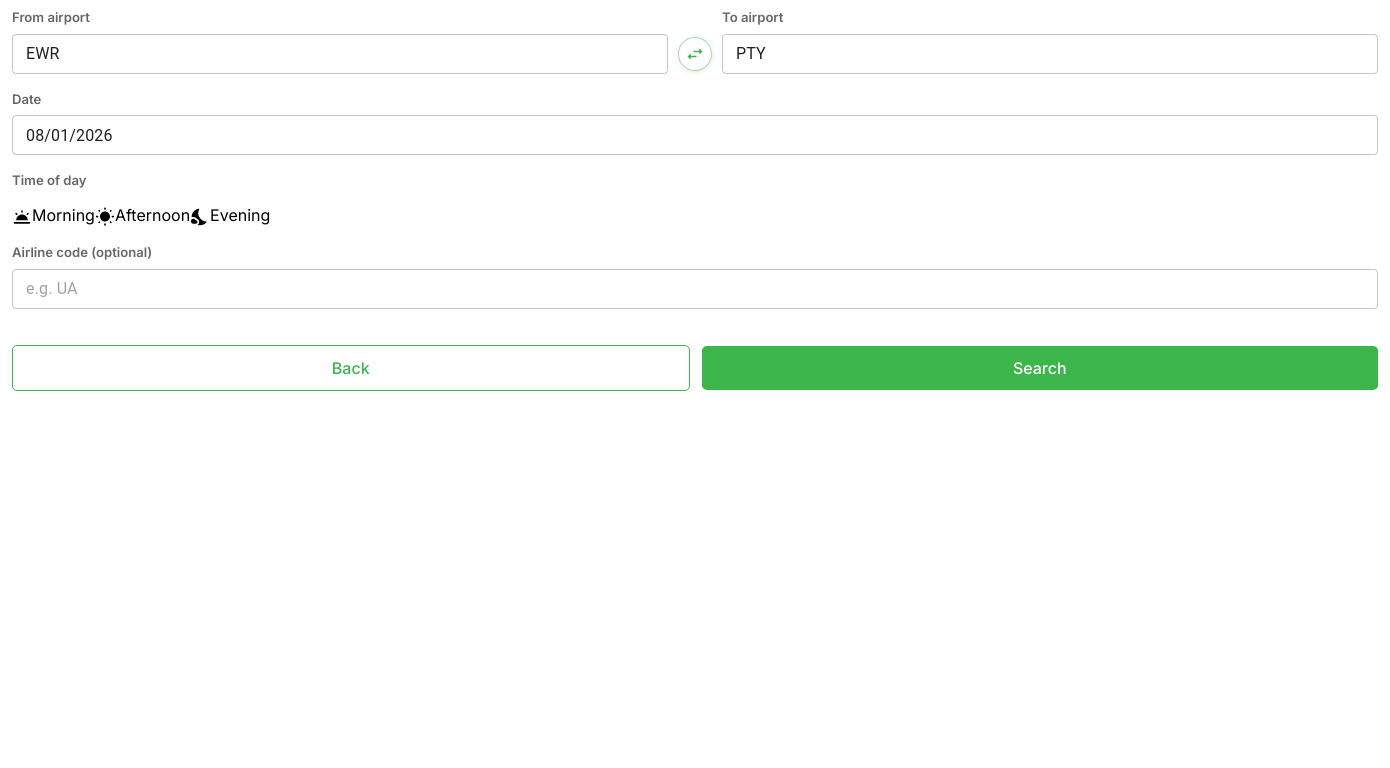
FlightDeparturesSearch › filters the visible rows by the client-side text filter
Click the button "Search" at (1040, 368), box left=702, top=346, right=1378, bottom=390
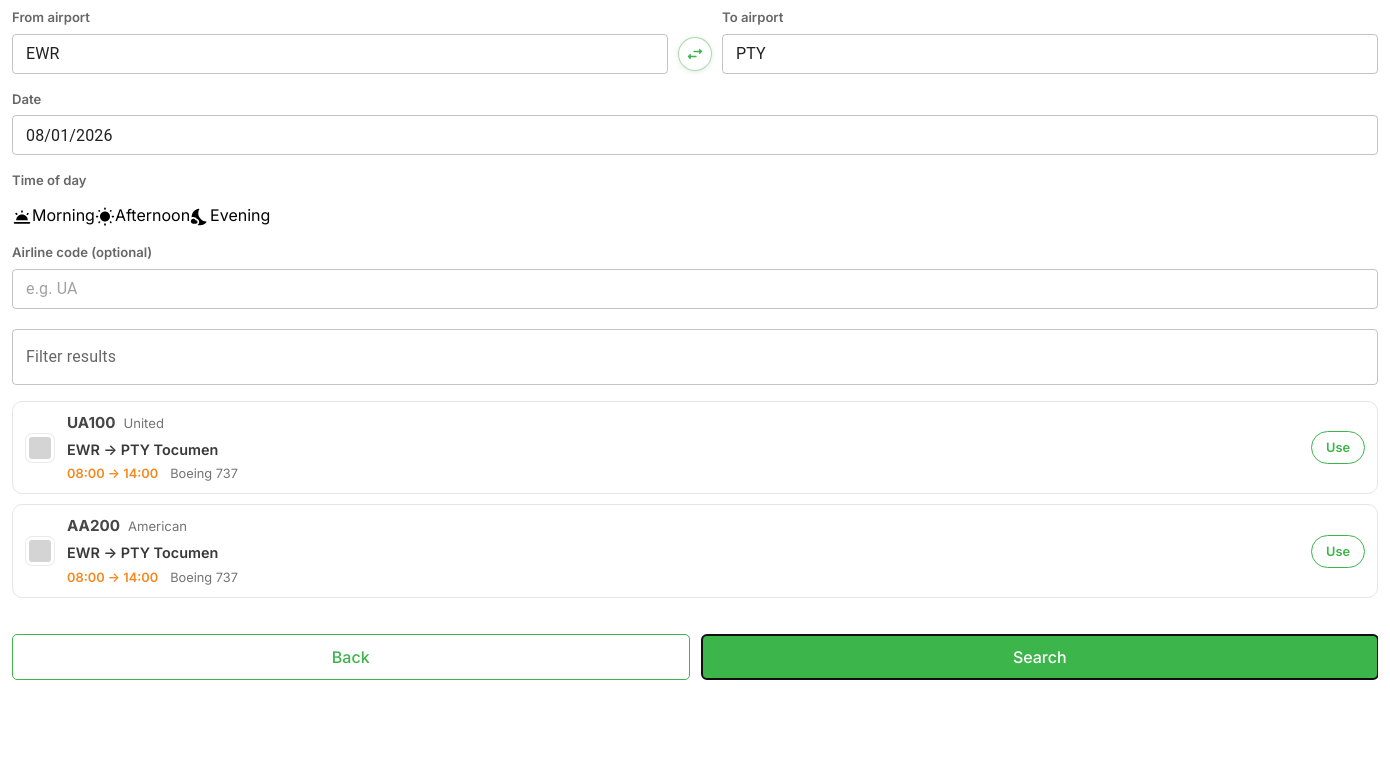
Expected: the text "AA200" is shown, left=67, top=515, right=120, bottom=538
Type "UA" into the field with placeholder "Flight #, airport, city, or airline" at (695, 357), box left=12, top=329, right=1378, bottom=385
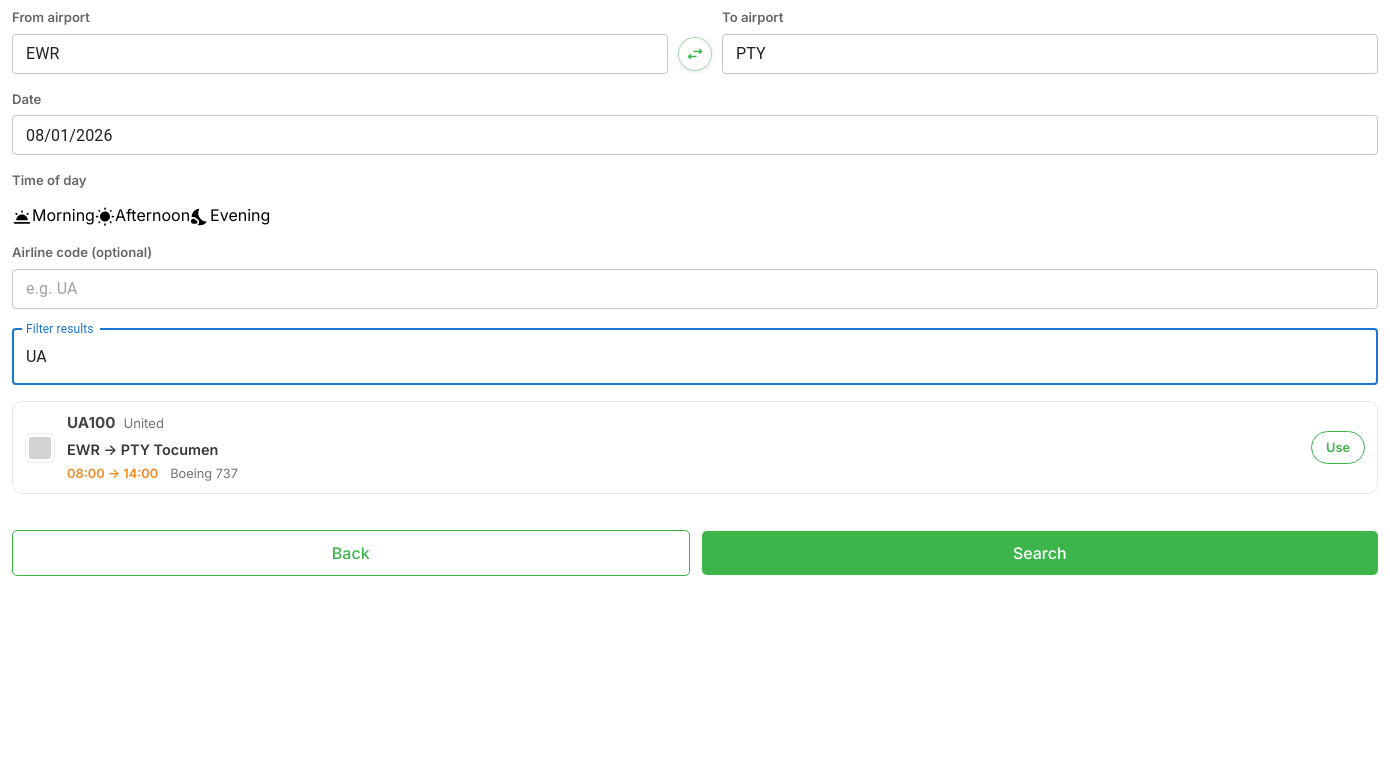
Expected: the text "UA100" is shown, left=67, top=412, right=115, bottom=435
Expected: the button "AA200" is gone
